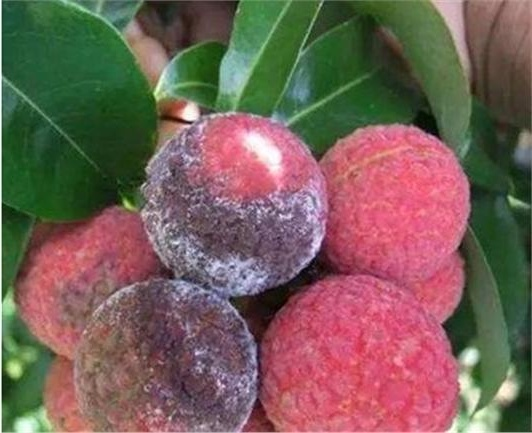Frost_Blight: (120, 113, 325, 271), (73, 283, 245, 412)
